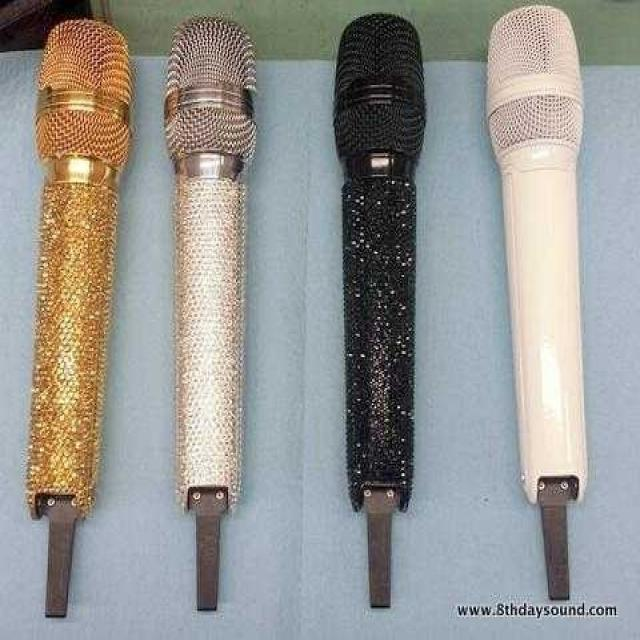microphone: (26, 23, 130, 594), (484, 8, 586, 568), (166, 16, 257, 578), (335, 17, 425, 585), (486, 5, 582, 164)
